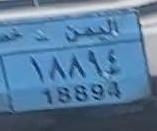number: (2, 39, 153, 113)
text: (0, 10, 141, 56)
